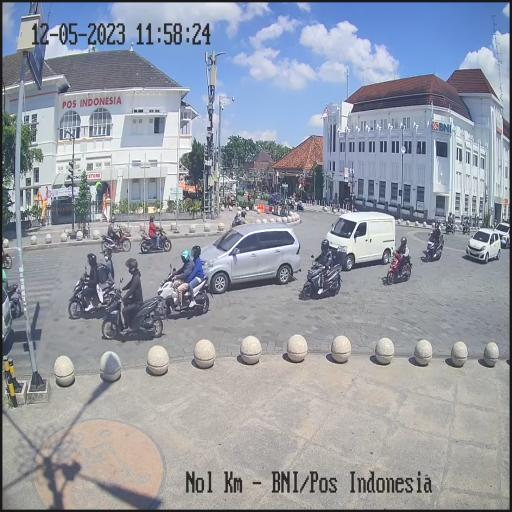mobil: (194, 220, 302, 295), (324, 211, 396, 272), (466, 227, 500, 265)
motor: (106, 277, 165, 343), (155, 264, 209, 320), (68, 262, 118, 320), (302, 253, 342, 300), (100, 222, 132, 260), (140, 221, 172, 258), (384, 250, 414, 286), (426, 233, 444, 263)
